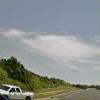Car: (1, 79, 33, 99)
